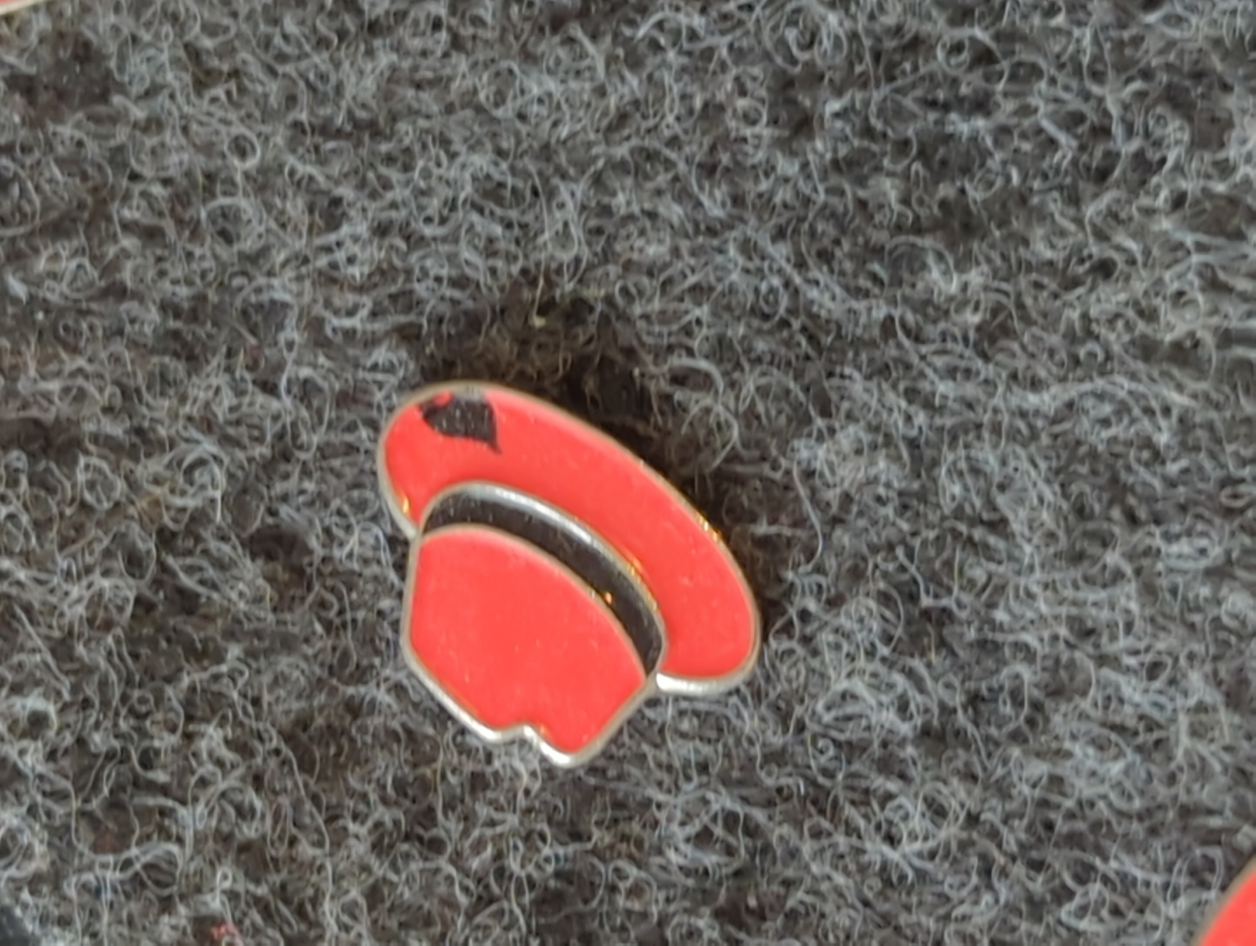Red-Hat: (291, 271, 831, 839)
Scratch: (389, 356, 533, 470)
